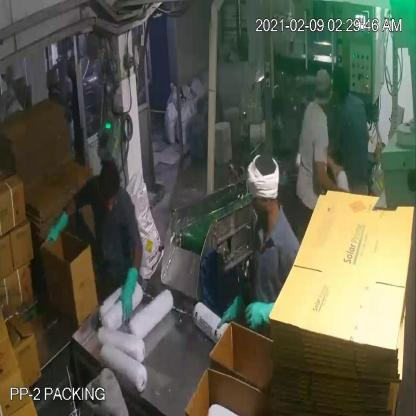glove: (242, 298, 286, 346), (115, 256, 143, 326), (214, 288, 249, 337), (34, 208, 73, 251)
no_glove: (310, 160, 344, 198)
